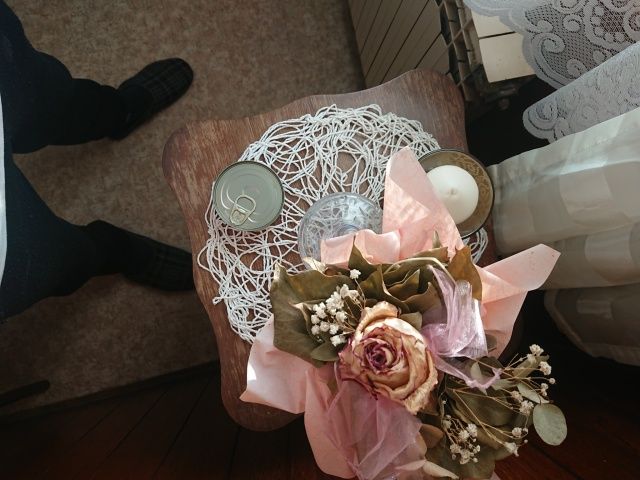Gavrilovic Pork Liver Pate 100g: (210, 159, 285, 234)
